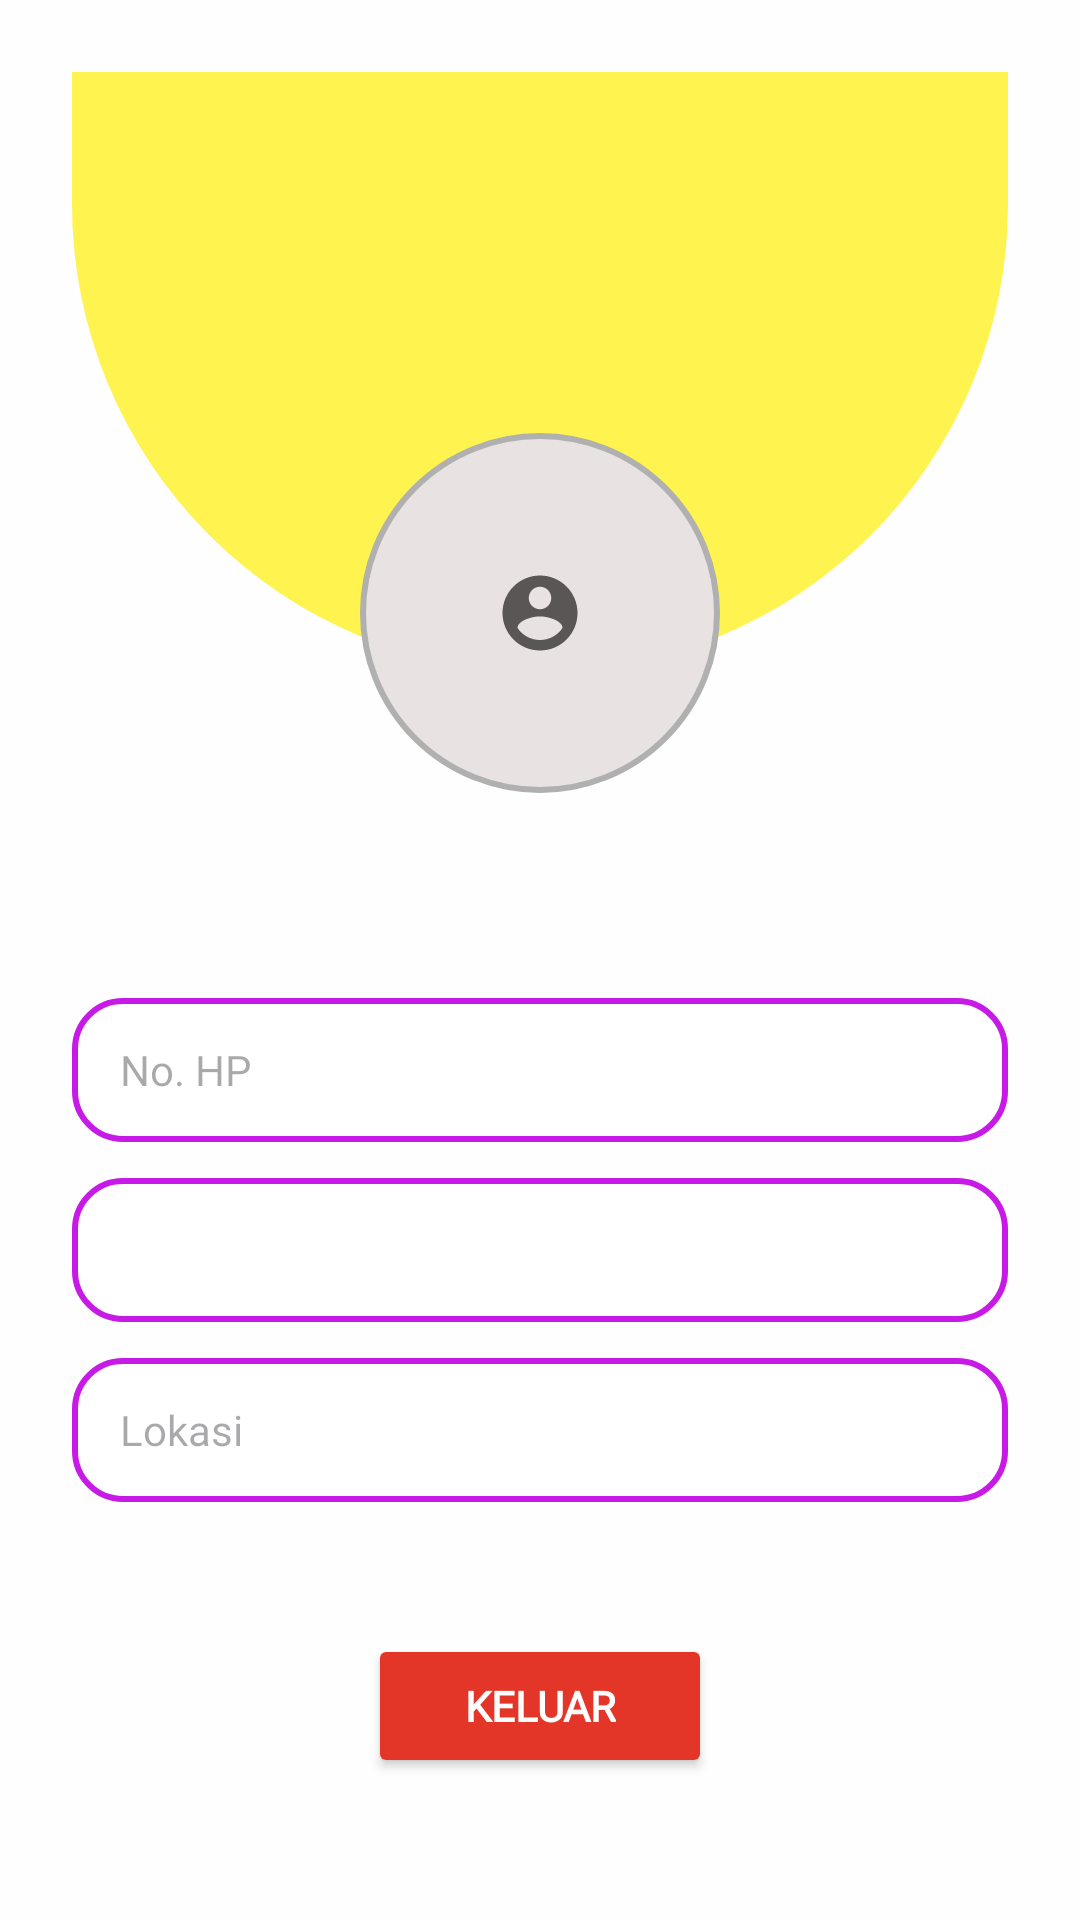

Icon click points for this 1080×1920 phone screenshot, format (x,y):
Profile Picture: (540,613)
